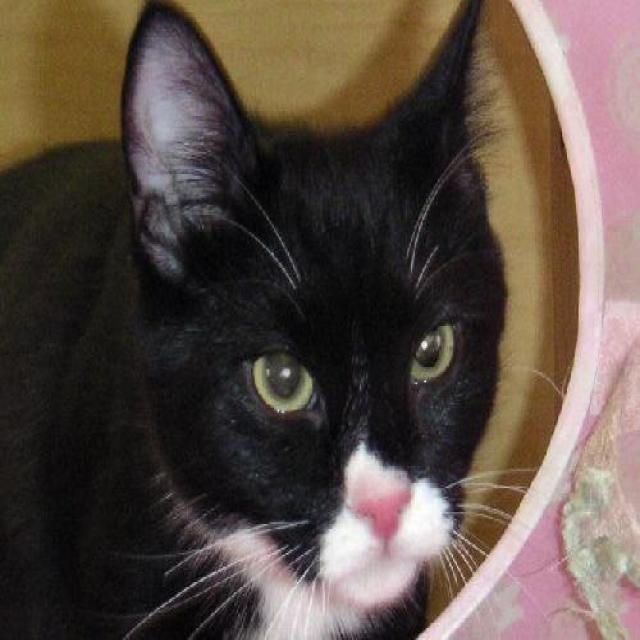fox: (0, 0, 548, 638)
